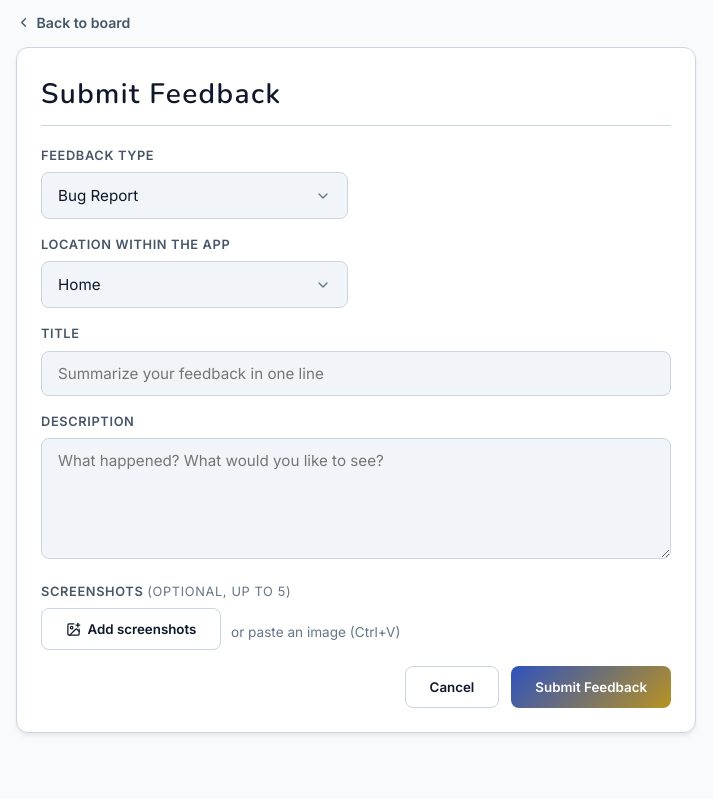
FeedbackSubmitForm › validates required fields before submitting
Step 1. Click the button "Submit Feedback" → (591, 687), box [511,666,671,708]
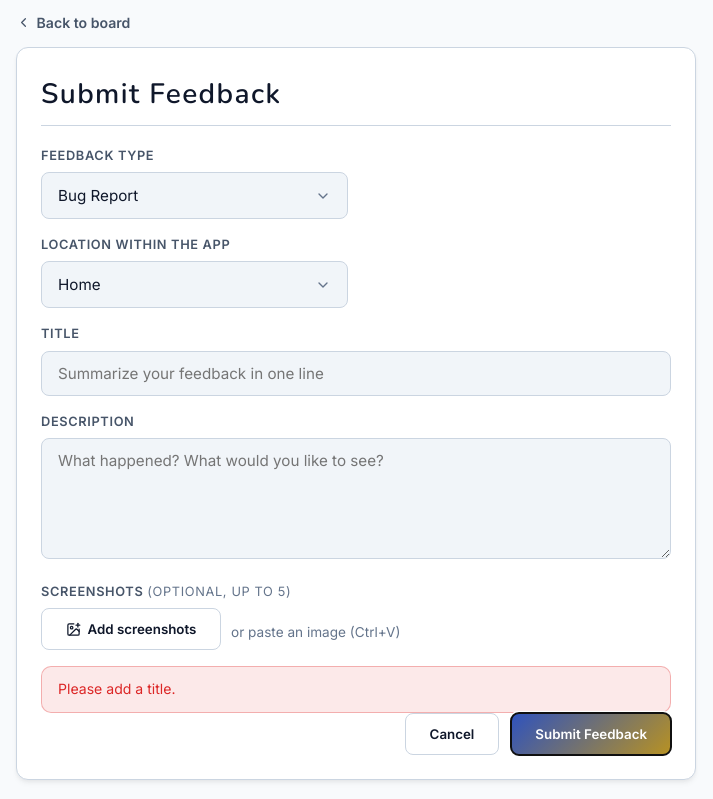
Now the text "Please add a title." is shown, box [41,666,671,713]
Step 2. Type "Calendar crashes" into the field labelled "Title" → (356, 373), box [41,350,671,396]
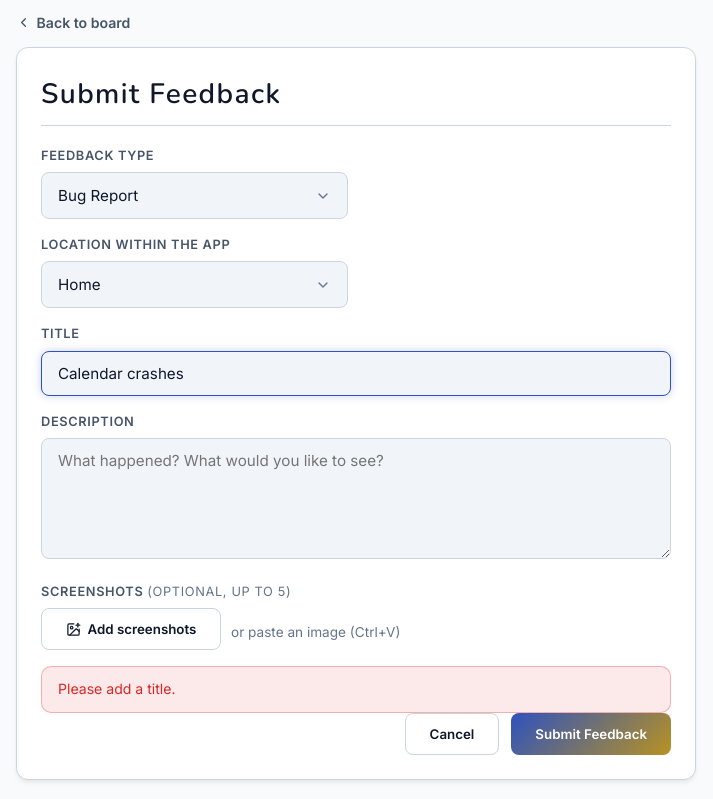
Step 3. Click the button "Submit Feedback" → (591, 734), box [511,713,671,755]
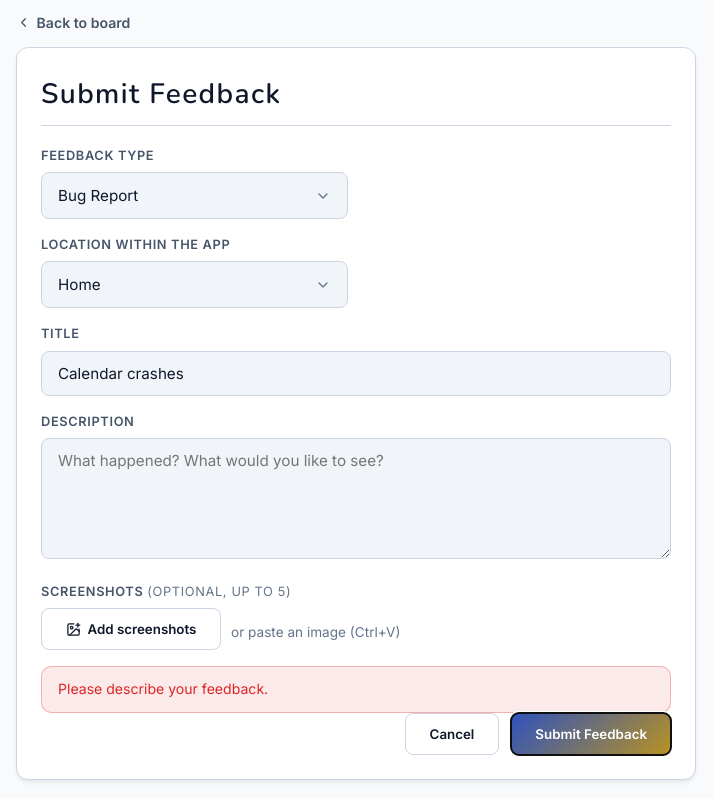
Now the text "Please describe your feedback." is shown, box [41,666,671,713]
